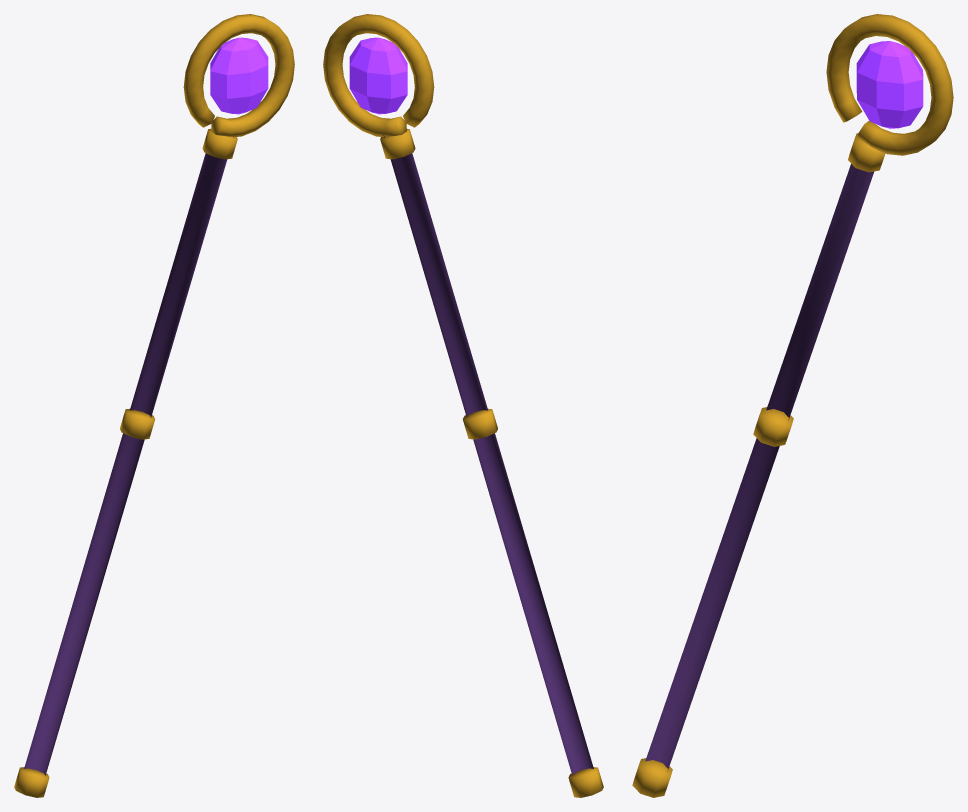
The model's file is hand_staff.glb.
The picture shows the model from 3 angles, left to right: view 1: azimuth 30°, elevation 25°; view 2: azimuth 150°, elevation 25°; view 3: azimuth 330°, elevation 25°; orthographic projection. The views are drawn at different scales.
Parts seen in each view (by area): view 1: hand_staff_q; view 2: hand_staff_q; view 3: hand_staff_q.
Part boxes in pixels (x1=…): hand_staff_q: x1=14, y1=14, x2=294, y2=797; hand_staff_q: x1=323, y1=14, x2=603, y2=797; hand_staff_q: x1=632, y1=14, x2=953, y2=797.
Bounding box in the file's own units: 1.81 × 4.55 × 0.2663.
